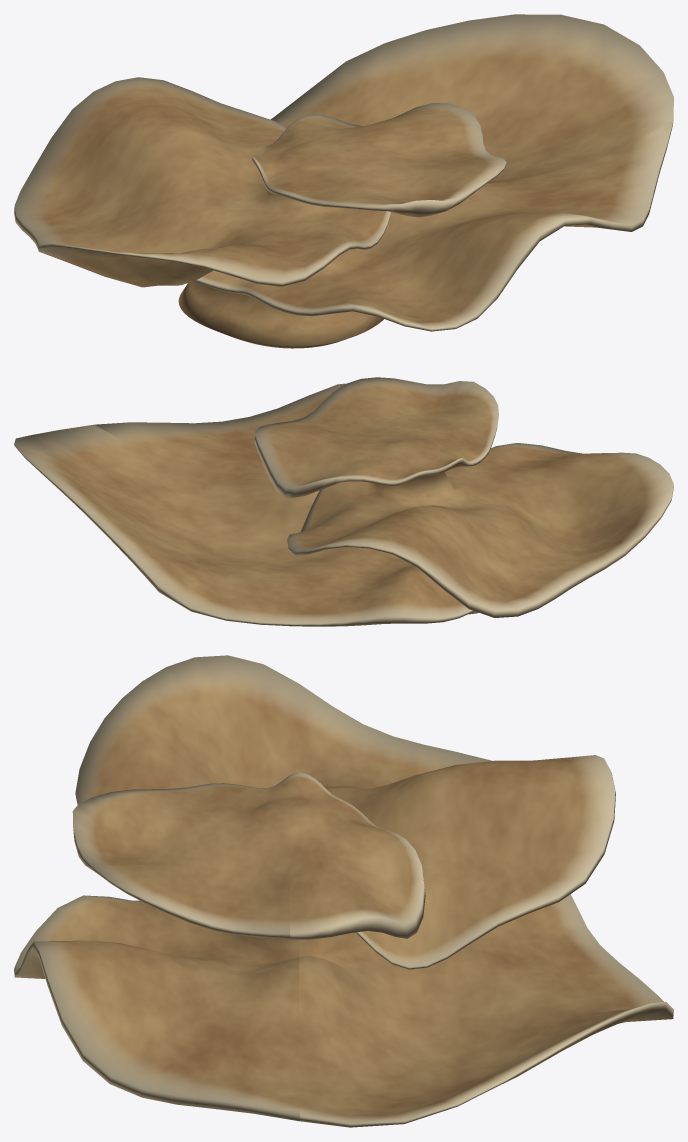
File: plate_v6_fan_lod1.glb
3 renders of one model, top to bottom at view 1: azimuth 30°, elevation 25°; view 2: azimuth 150°, elevation 25°; view 3: azimuth 270°, elevation 25°, orthographic. The views are drawn at different scales.
Parts seen in each view (by area): view 1: plate_v6_folds_fan_LOD1; view 2: plate_v6_folds_fan_LOD1; view 3: plate_v6_folds_fan_LOD1.
Boxes of the visible parts, x1,y1,x2,y2 form: plate_v6_folds_fan_LOD1: (14, 14, 673, 348); plate_v6_folds_fan_LOD1: (14, 377, 673, 626); plate_v6_folds_fan_LOD1: (14, 655, 673, 1127).
Size of the model in its own units: 1.57 by 0.36 by 1.05.
Materials: 1 (1 with a texture image).
